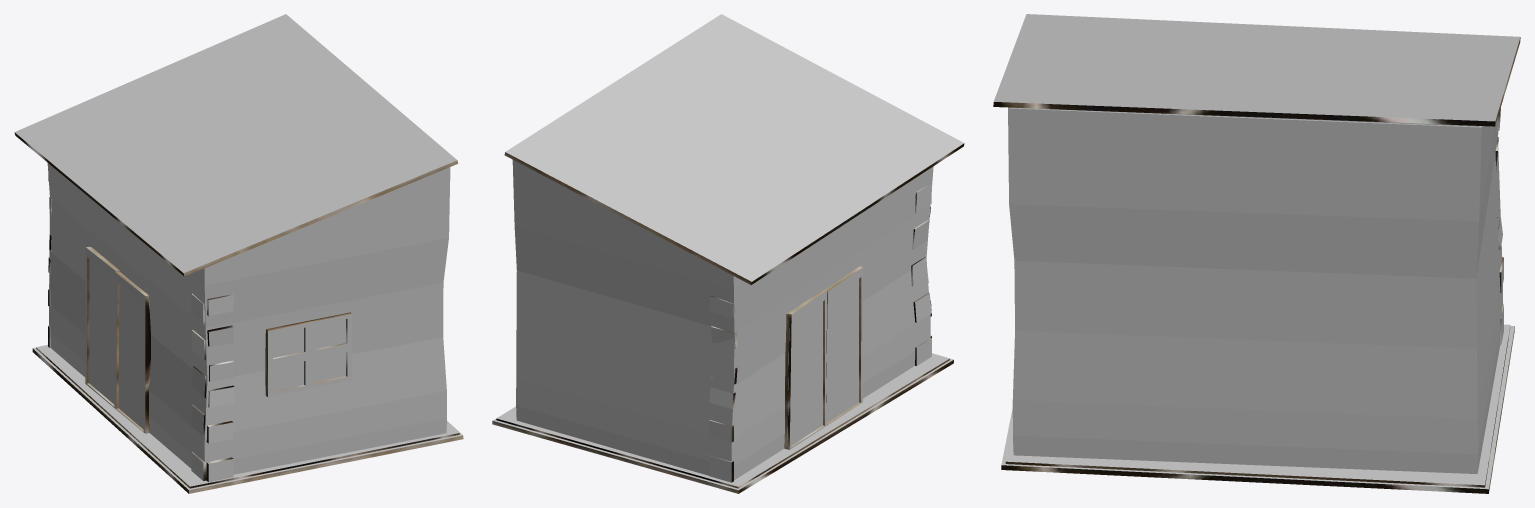
File: SmallHouse1.fbx
3 renders of one model, left to right at view 1: azimuth 30°, elevation 25°; view 2: azimuth 150°, elevation 25°; view 3: azimuth 270°, elevation 25°, orthographic. The views are drawn at different scales.
Visible parts, largest first — view 1: Cube.010; view 2: Cube.010; view 3: Cube.010.
Boxes of the visible parts, left/top/right/bottom form: Cube.010: left=14, top=14, right=463, bottom=493; Cube.010: left=492, top=14, right=964, bottom=493; Cube.010: left=993, top=14, right=1520, bottom=493.
Size of the model in its own units: 1390 by 1266 by 1647.
